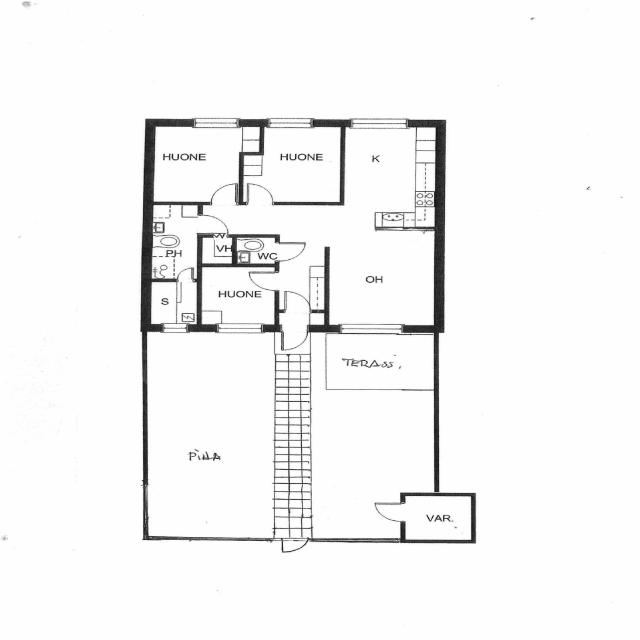door: (282, 325, 308, 350), (282, 539, 308, 561), (211, 183, 237, 205), (247, 183, 273, 205), (284, 291, 310, 313), (375, 503, 405, 521), (198, 215, 228, 233), (249, 272, 279, 290), (275, 242, 304, 260), (176, 266, 194, 282)
